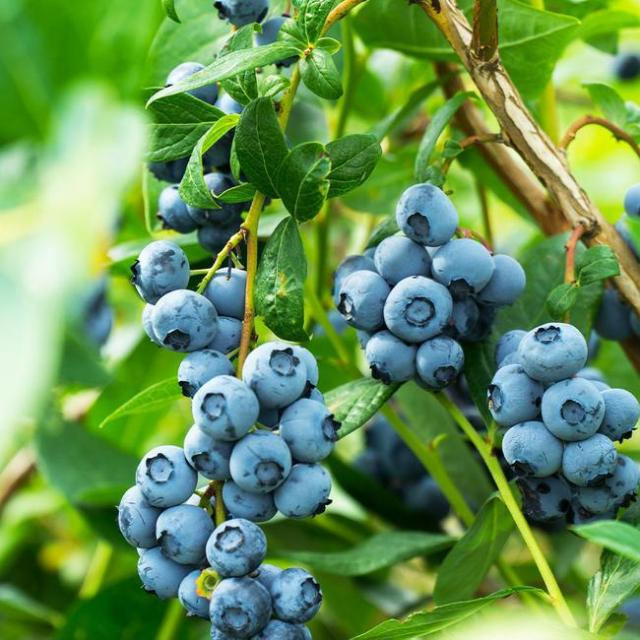BlueBerry - v1: (380, 272, 458, 346), (389, 178, 464, 251), (230, 422, 294, 505), (240, 330, 309, 405), (426, 232, 500, 300), (512, 319, 589, 383), (265, 564, 335, 634), (200, 512, 269, 578), (154, 284, 220, 352), (572, 457, 640, 522), (556, 431, 624, 494), (276, 397, 340, 463), (191, 375, 255, 439), (182, 412, 235, 489), (502, 477, 581, 528), (132, 238, 190, 304), (138, 447, 196, 513), (372, 230, 435, 290), (156, 505, 216, 566), (488, 361, 544, 426), (332, 270, 389, 333), (544, 381, 606, 438), (210, 579, 272, 636), (132, 546, 183, 614), (175, 348, 241, 399), (502, 424, 563, 479), (359, 329, 414, 389), (480, 250, 534, 310), (269, 462, 329, 515), (412, 336, 470, 389), (190, 172, 241, 230), (118, 482, 159, 552), (170, 567, 222, 619), (163, 60, 220, 106), (202, 265, 250, 317), (147, 185, 196, 235), (189, 220, 249, 257), (326, 250, 369, 301), (602, 385, 640, 442), (210, 1, 276, 29), (489, 321, 525, 367), (210, 319, 244, 355)
